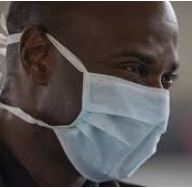with_facemask: (81, 74, 164, 178)
